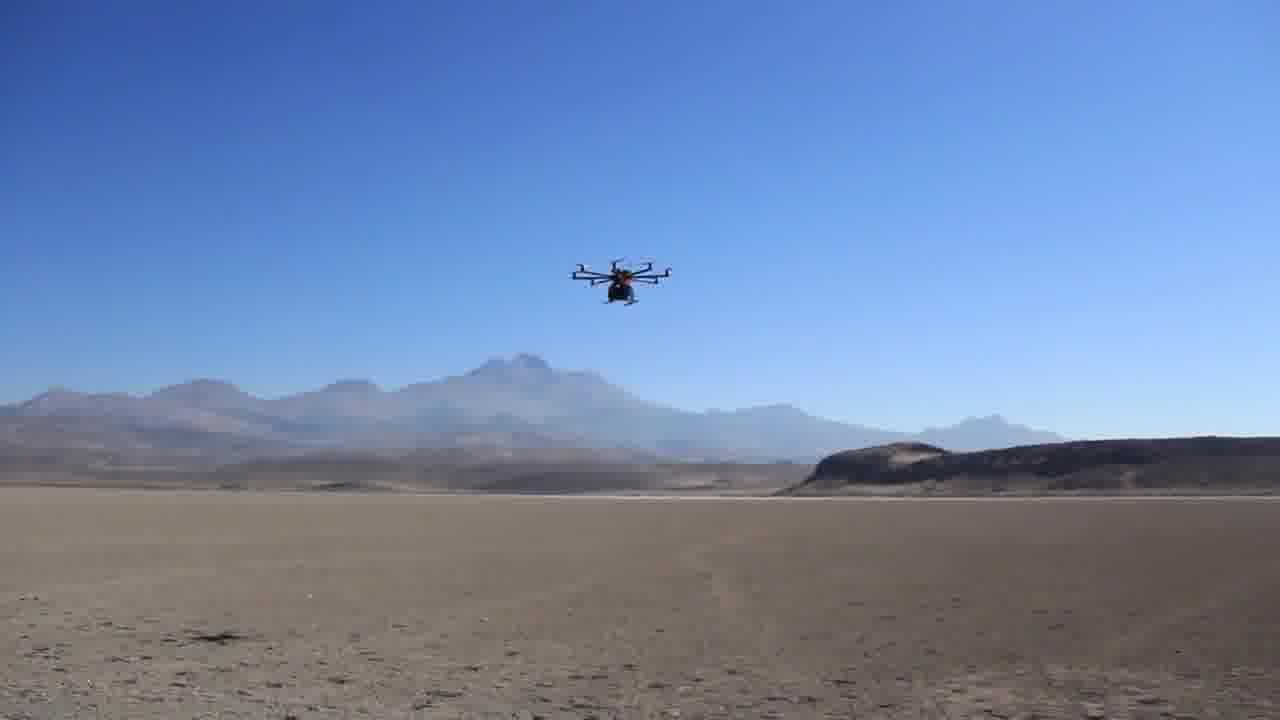drone: (554, 244, 689, 314)
